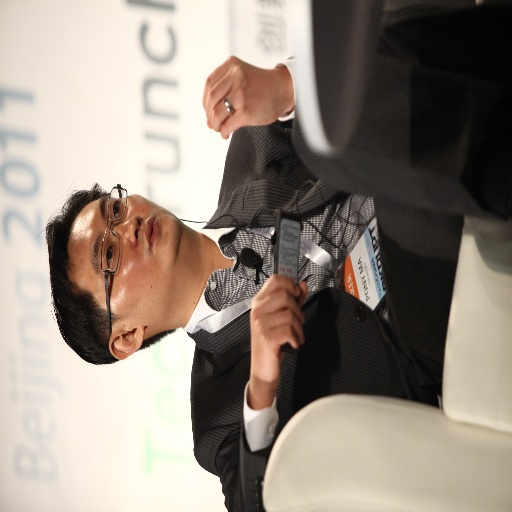hand: (193, 50, 302, 143), (250, 271, 307, 402)
